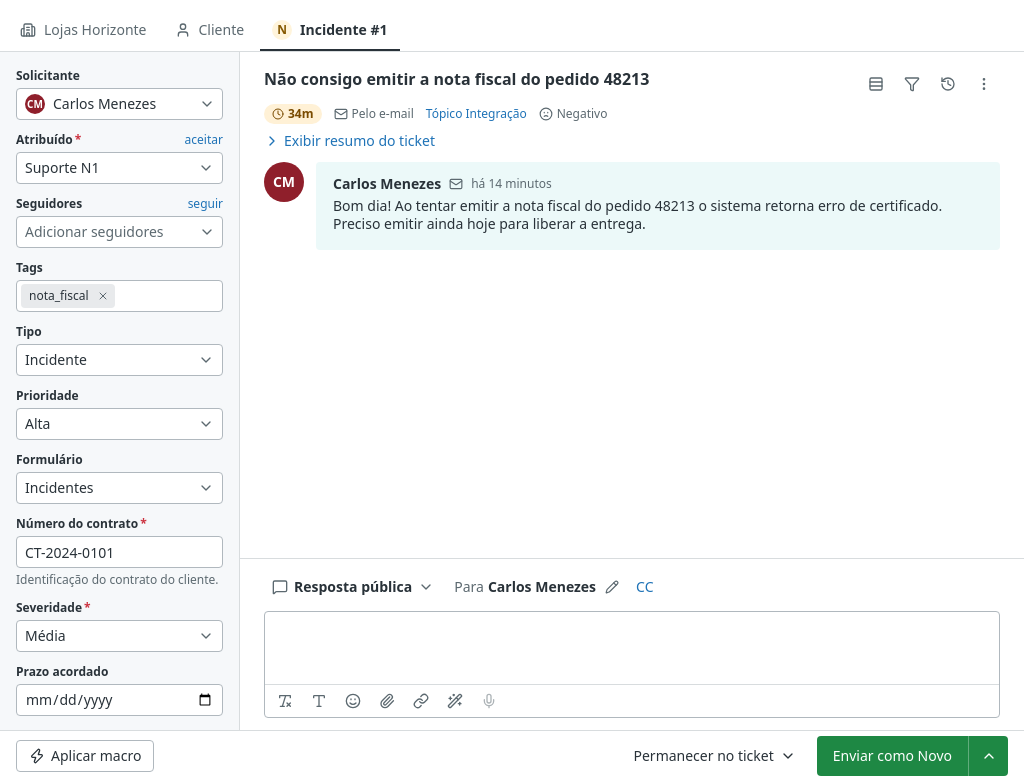
it: Tela do ticket › "aceitar" atribui a mim, só no formulário (pendente)
The image size is (1024, 780).
Click the button "aceitar".
click(204, 140)  # box [185,132,223,148]
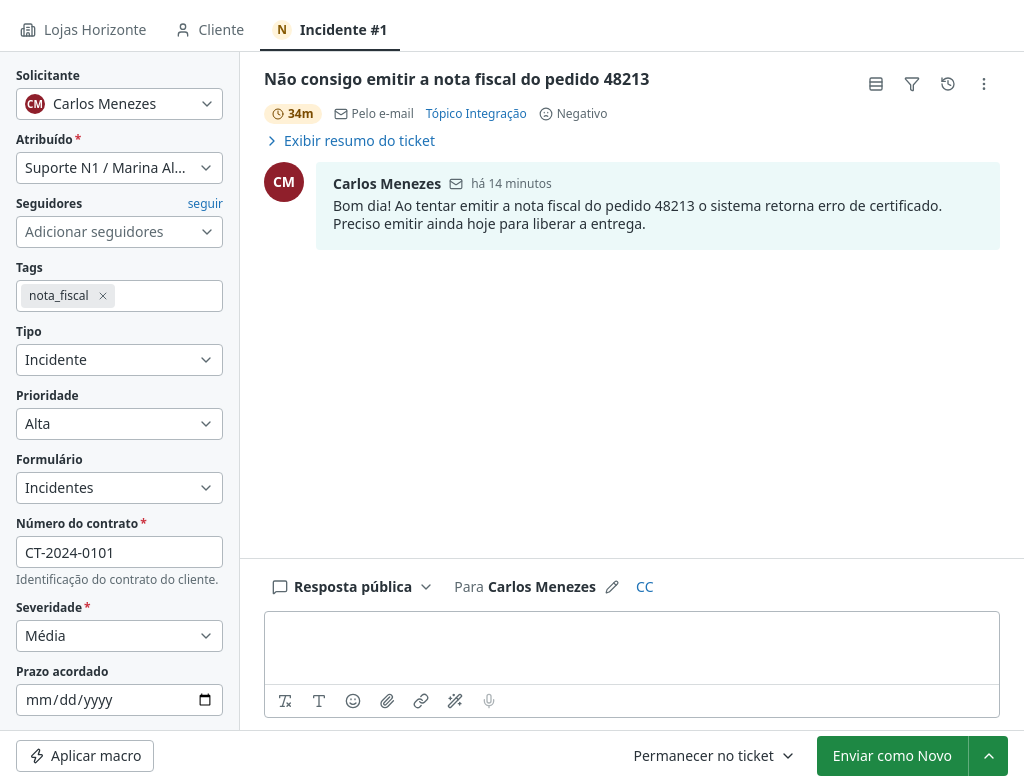
Check: the button "aceitar" is gone
